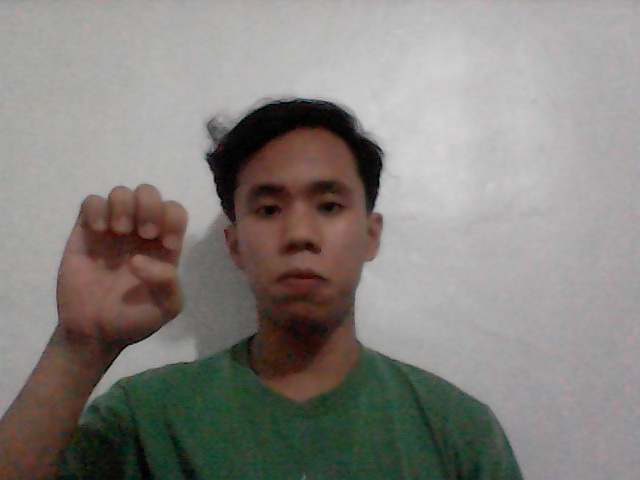E: (24, 167, 211, 357)
